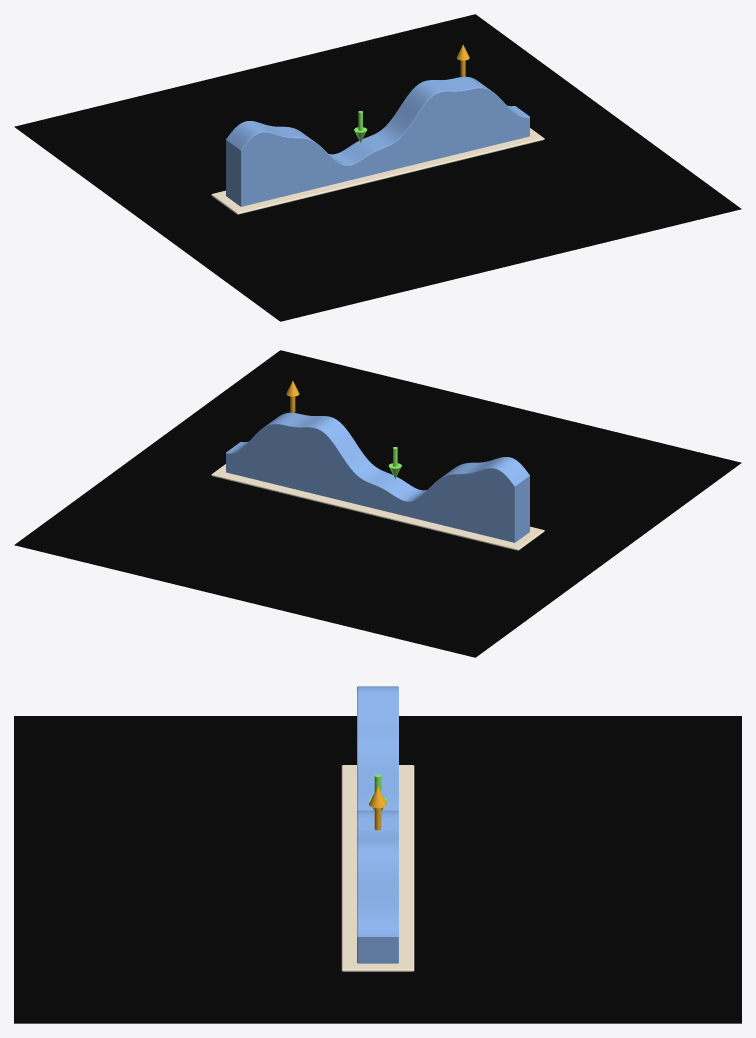
Rendered from sett-scroll-voordeel-arbitrage.glb.
3 views of the same model, one above another, from view 1: azimuth 30°, elevation 25°; view 2: azimuth 150°, elevation 25°; view 3: azimuth 270°, elevation 25° (orthographic). The views are drawn at different scales.
Visible parts, largest first — view 1: contact_shadow, scroll_grow, object 4; view 2: contact_shadow, scroll_grow, object 4; view 3: contact_shadow, scroll_grow, object 4.
Boxes of the visible parts, x1,y1,x2,y2 form: contact_shadow: [14, 14, 741, 321]; scroll_grow: [226, 76, 529, 206]; object 4: [211, 128, 544, 214]; contact_shadow: [14, 350, 741, 657]; scroll_grow: [226, 412, 529, 542]; object 4: [211, 464, 544, 550]; contact_shadow: [14, 716, 741, 1023]; scroll_grow: [357, 686, 398, 963]; object 4: [341, 765, 414, 971].
Size of the model in its own units: 2400 by 512 by 2400.
Materials: 5 (1 with a texture image).
